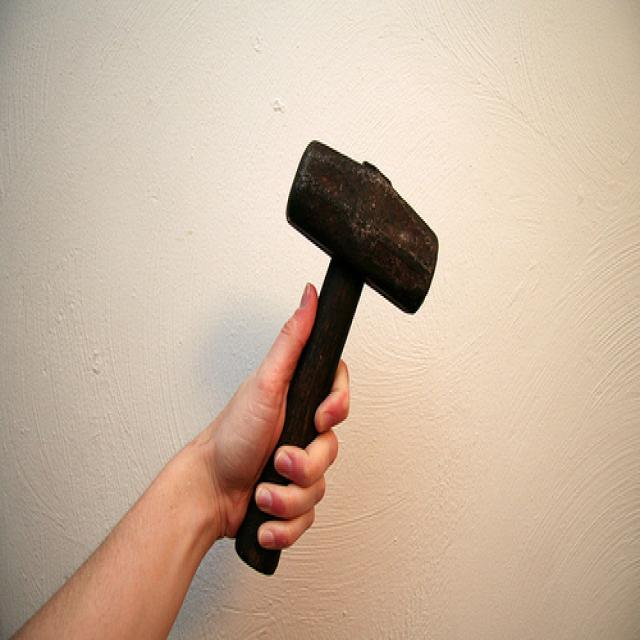hammer: (266, 124, 434, 475)
